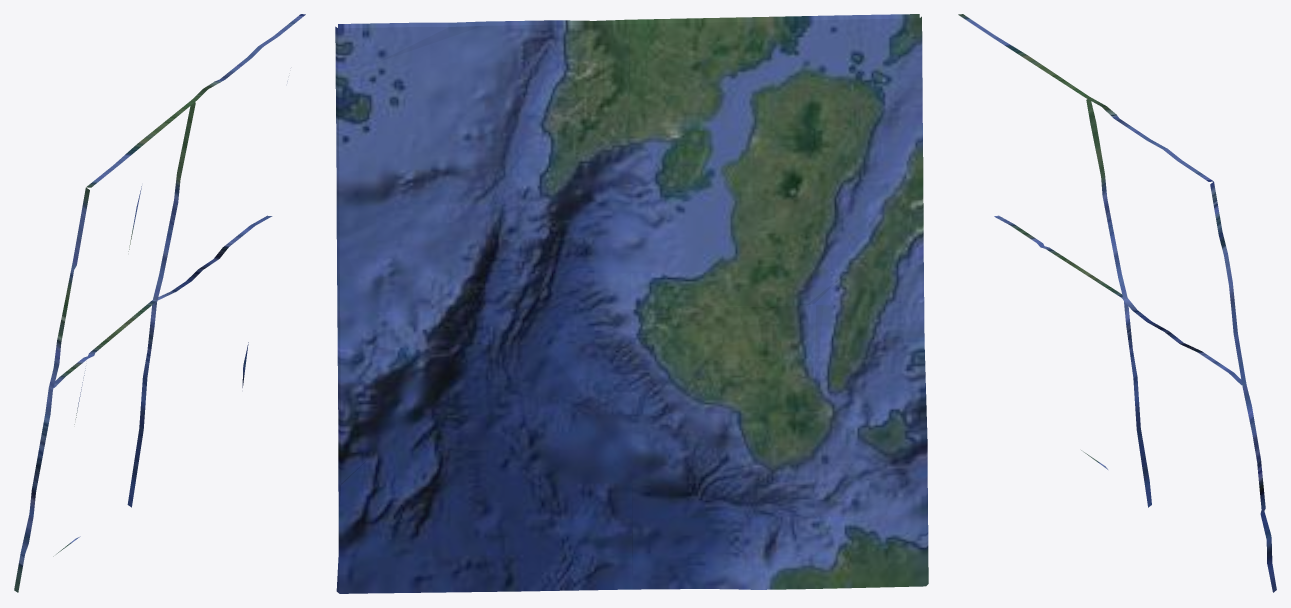
3 views of the same model, side by side, from view 1: azimuth 30°, elevation 25°; view 2: azimuth 150°, elevation 25°; view 3: azimuth 270°, elevation 25° (orthographic). The views are drawn at different scales.
Size of the model in its own units: 293718 by 311305 by 210583.
1 material, 1 textured.
